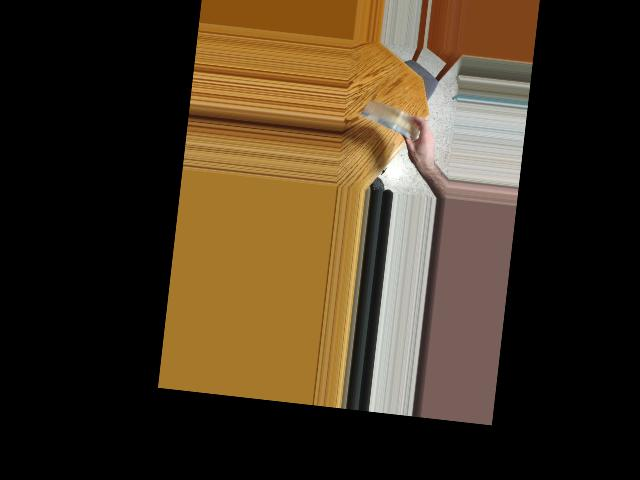cheese: (358, 102, 428, 134)
